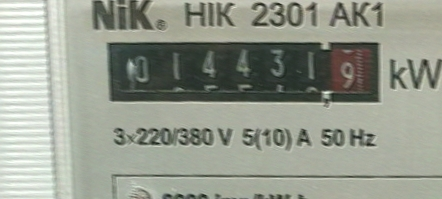0: (131, 49, 152, 83)
1: (167, 46, 186, 80), (304, 47, 318, 79)
3: (267, 45, 287, 78)
4: (198, 44, 220, 78), (233, 43, 252, 77)
9: (338, 56, 356, 88)
screen: (97, 21, 395, 119)
